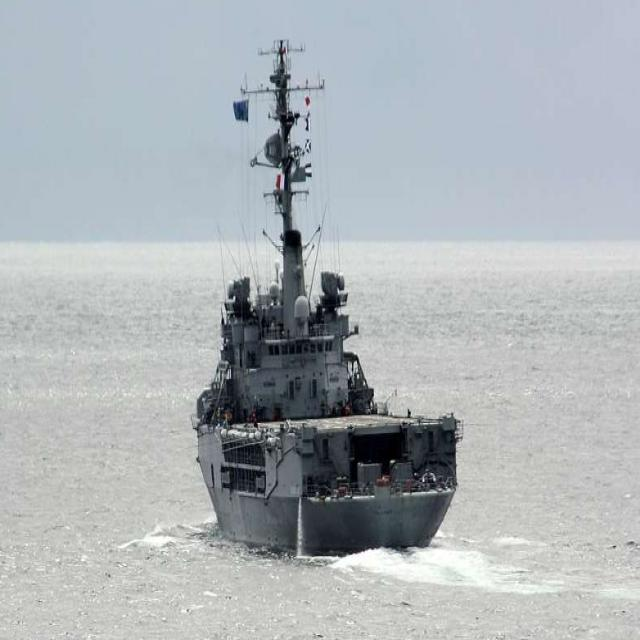Portanaves: (187, 14, 479, 560)
